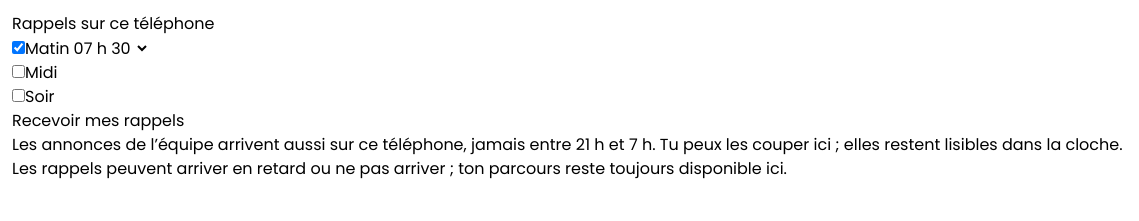
Rappels sur ce téléphone › un refus du navigateur est expliqué, rien n’est enregistré
The image size is (1139, 221).
Click the button "Recevoir mes rappels" at coordinates (98, 121), box [12,109,184,133]
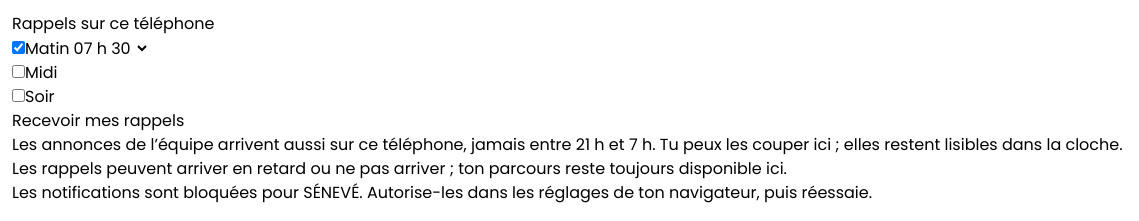
Now the message shows "bloquées pour SÉNEVÉ", box [12,181,872,204]
